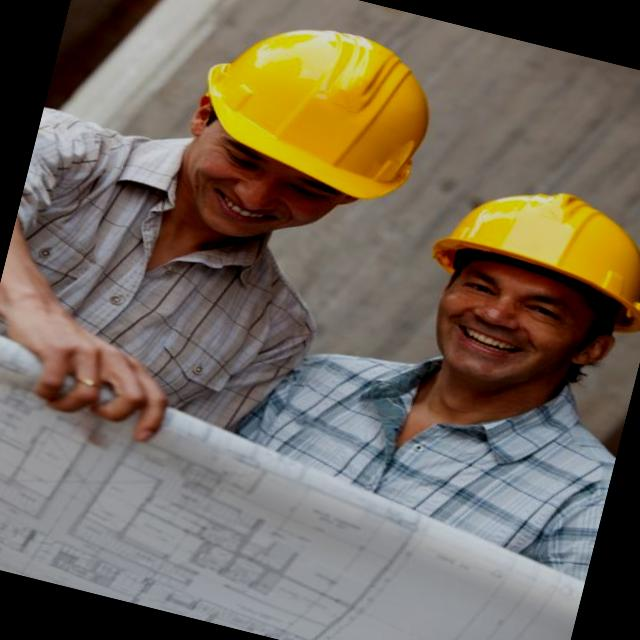helmet: (147, 0, 452, 221), (418, 158, 640, 334)
no-goggles: (179, 130, 363, 219), (425, 262, 604, 346)
no-vest: (0, 171, 335, 437), (330, 352, 620, 564)
